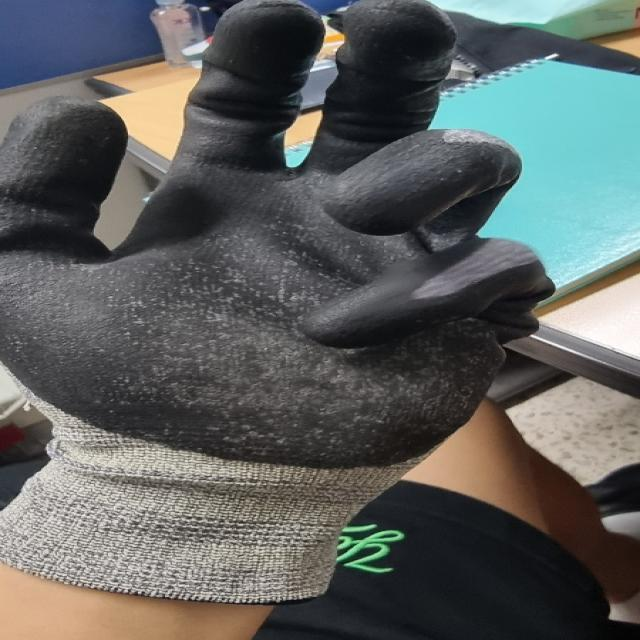Gloves: (0, 7, 548, 566)
